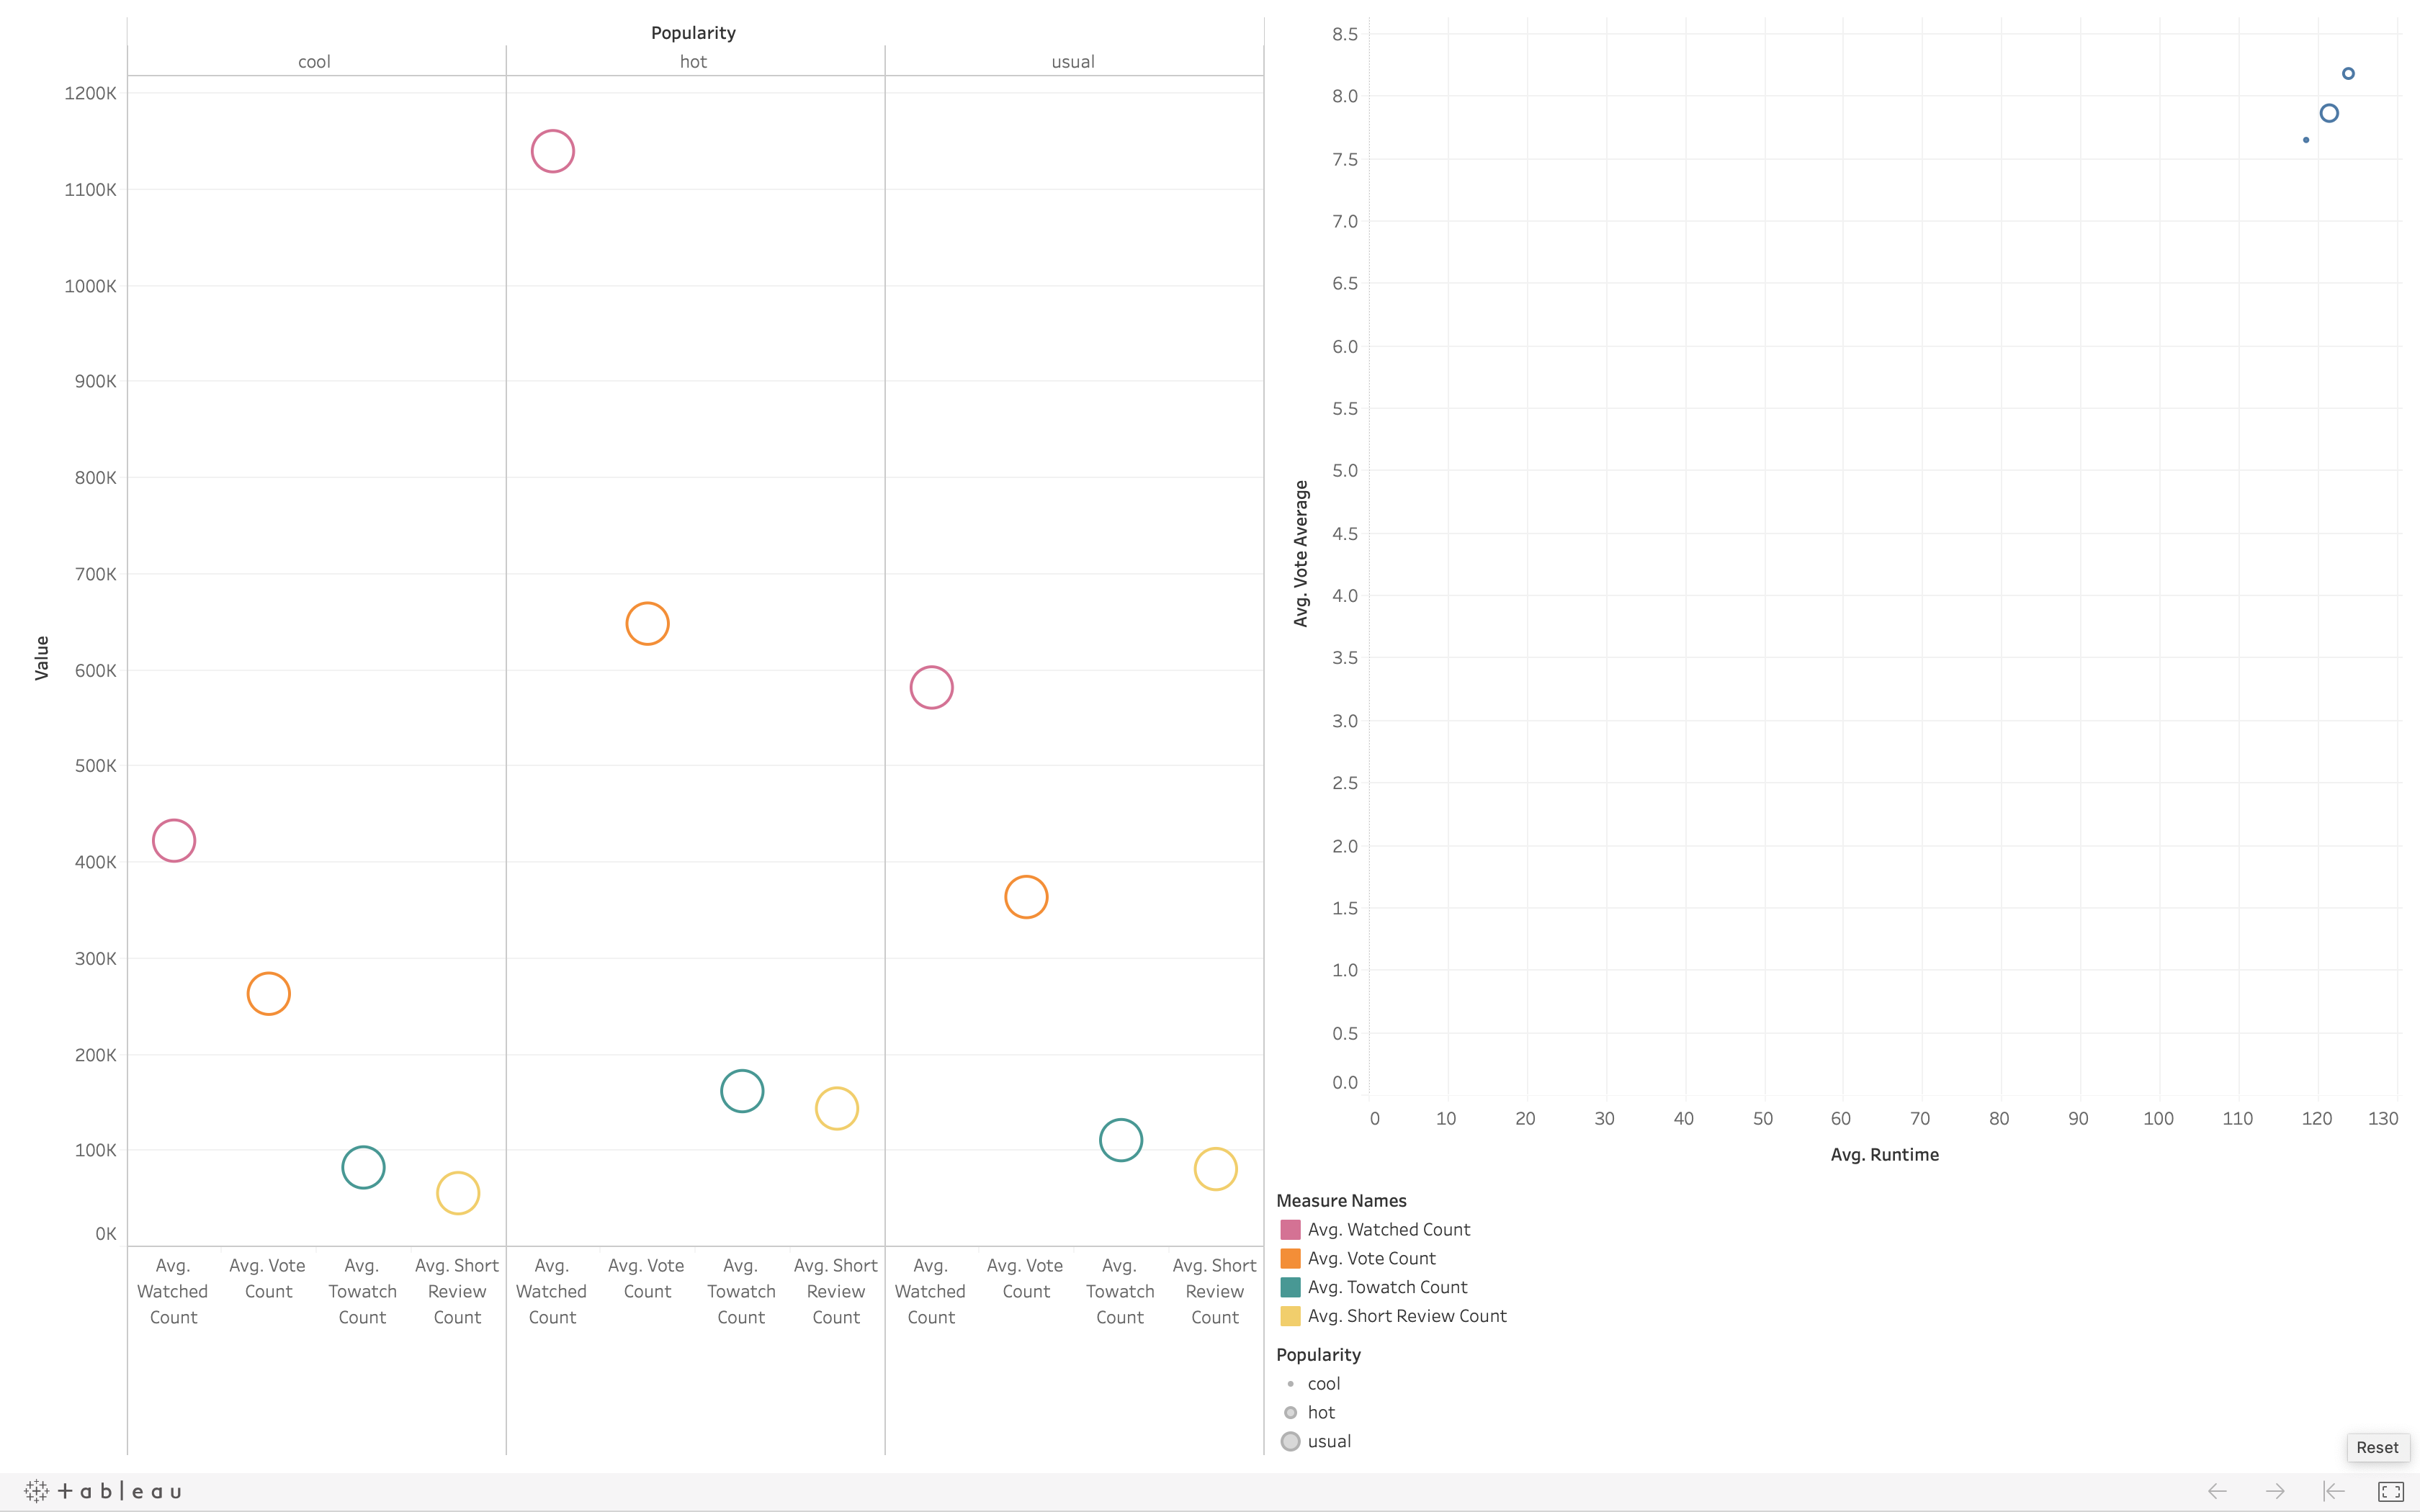

What the dashboard file says about the page in this screenshot:
{"tool":"tableau","page":{"name":"Dashboard 1","canvas":[1000,1000],"units":"permille","ordinal":0},"visuals":[{"type":"worksheet","title":"Sheet 1","mark":"Shape","cols":["popularity"],"box":[5.6,8.8,434.4,982.5]},{"type":"worksheet","title":"Sheet 2","mark":"Shape","rows":["vote_average"],"cols":["runtime"],"box":[440,8.8,554.4,772.2]},{"type":"legend","title":"Sheet 1","param":"[federated.18jnamg0hritzr11601uv1titaw7].[:Measure Names]","box":[440,781,554.4,116.1]},{"type":"legend","title":"Sheet 2","param":"[federated.18jnamg0hritzr11601uv1titaw7].[none:popularity:nk]","box":[440,897.1,554.4,94.2]}]}

Visuals, with their boxes on the dashboard's canvas, which has no fixed pixel size, in thousandths of its width and height (x1, y1, x2, y2). These are canvas units, not pixel positions in the 2420x1512 screenshot, which may show the page scaled, cropped or inside an application window:
"Sheet 1" worksheet (Shape marks): [6,9,440,991]
"Sheet 2" worksheet (Shape marks): [440,9,994,781]
"Sheet 1" legend: [440,781,994,897]
"Sheet 2" legend: [440,897,994,991]
